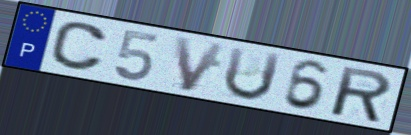5: (111, 28, 162, 83)
6: (281, 58, 333, 112)
C: (47, 20, 110, 73)
R: (330, 64, 394, 126)
U: (220, 44, 285, 102)
V: (171, 34, 229, 94)
